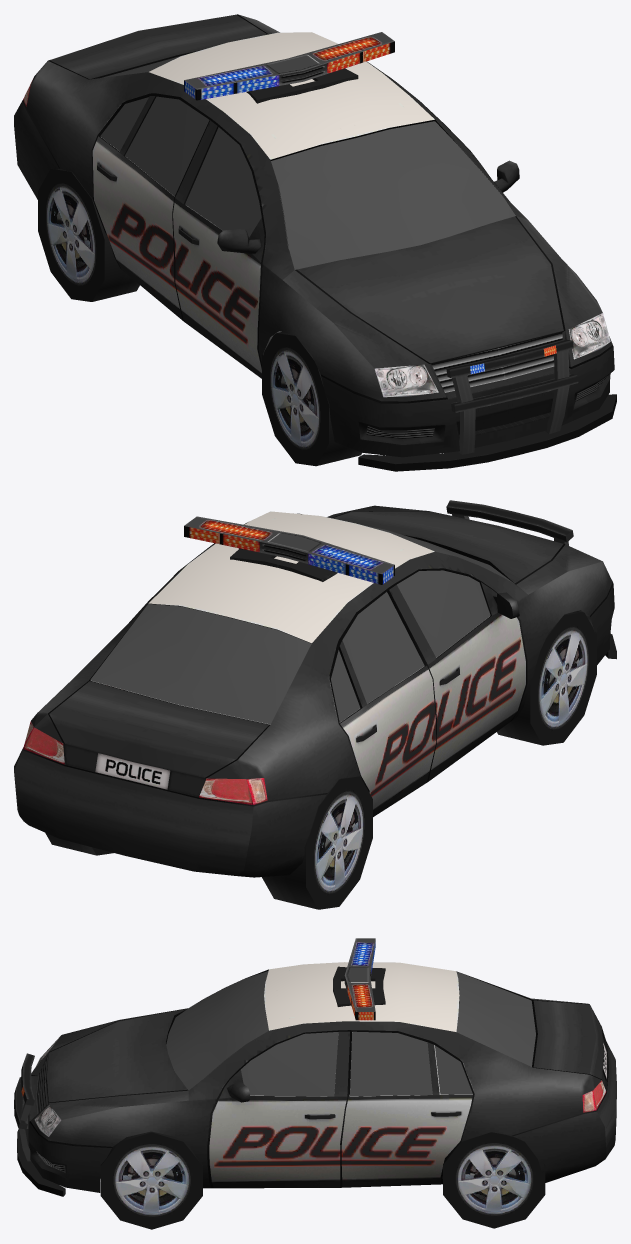
Rendered from obstacle_police.glb.
3 views of the same model, one above another, from view 1: azimuth 30°, elevation 25°; view 2: azimuth 150°, elevation 25°; view 3: azimuth 270°, elevation 25° (orthographic). The views are drawn at different scales.
Parts seen in each view (by area): view 1: Object_7, Object_3, Object_4; view 2: Object_7, Object_3, Object_4; view 3: Object_7, Object_3, Object_6, Object_5.
Part boxes in pixels (x1,y1,x2,y2): Object_7: [14, 14, 616, 471]; Object_3: [100, 49, 515, 269]; Object_4: [38, 168, 139, 301]; Object_7: [14, 500, 616, 877]; Object_3: [90, 513, 514, 724]; Object_4: [262, 776, 372, 909]; Object_7: [14, 938, 616, 1196]; Object_3: [166, 971, 535, 1096]; Object_6: [100, 1131, 202, 1229]; Object_5: [443, 1132, 545, 1228].
Size of the model in its own units: 7.97 by 6.78 by 18.16.
5 materials, 4 textured.
